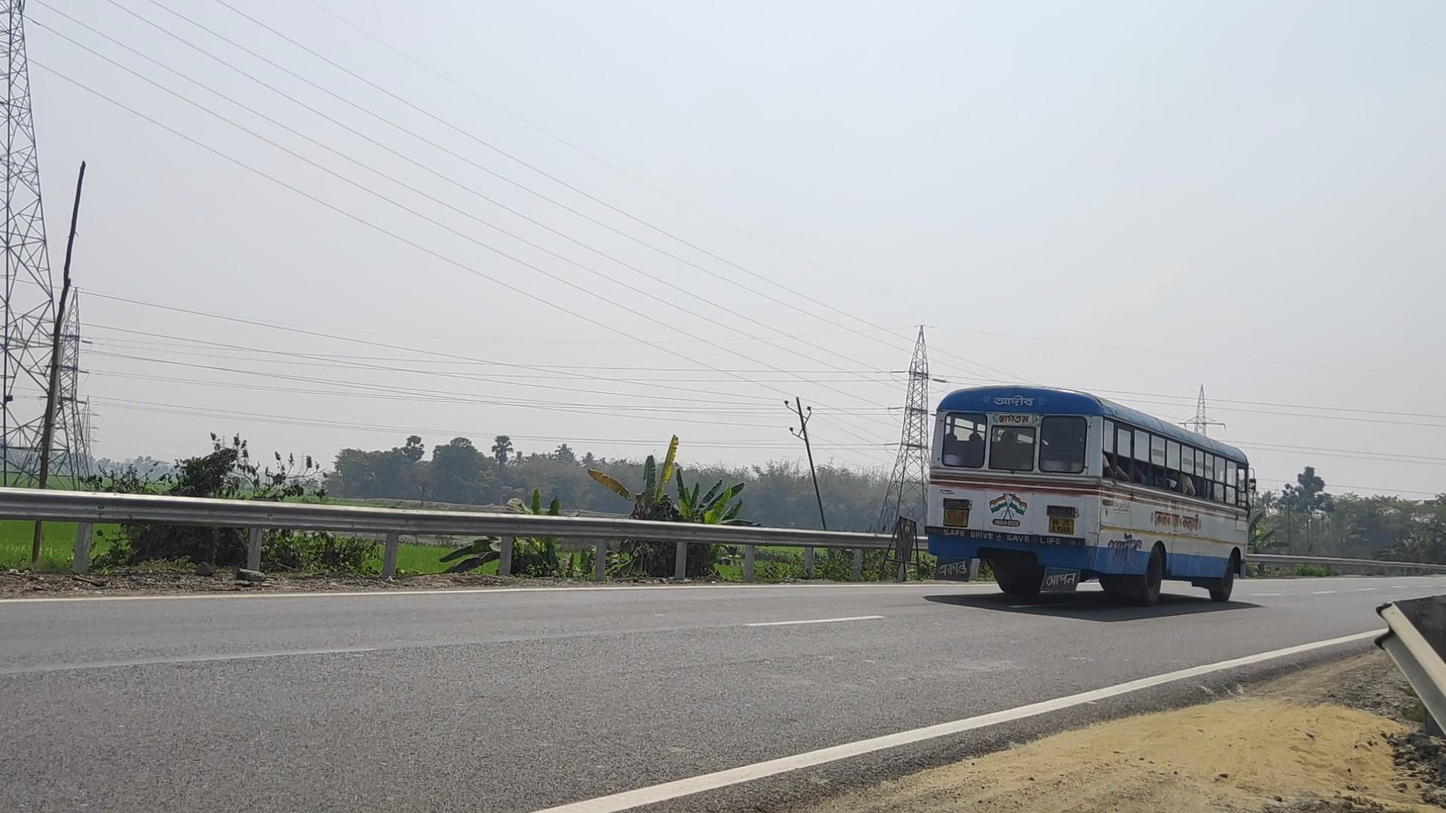Bus: (924, 385, 1256, 607)
